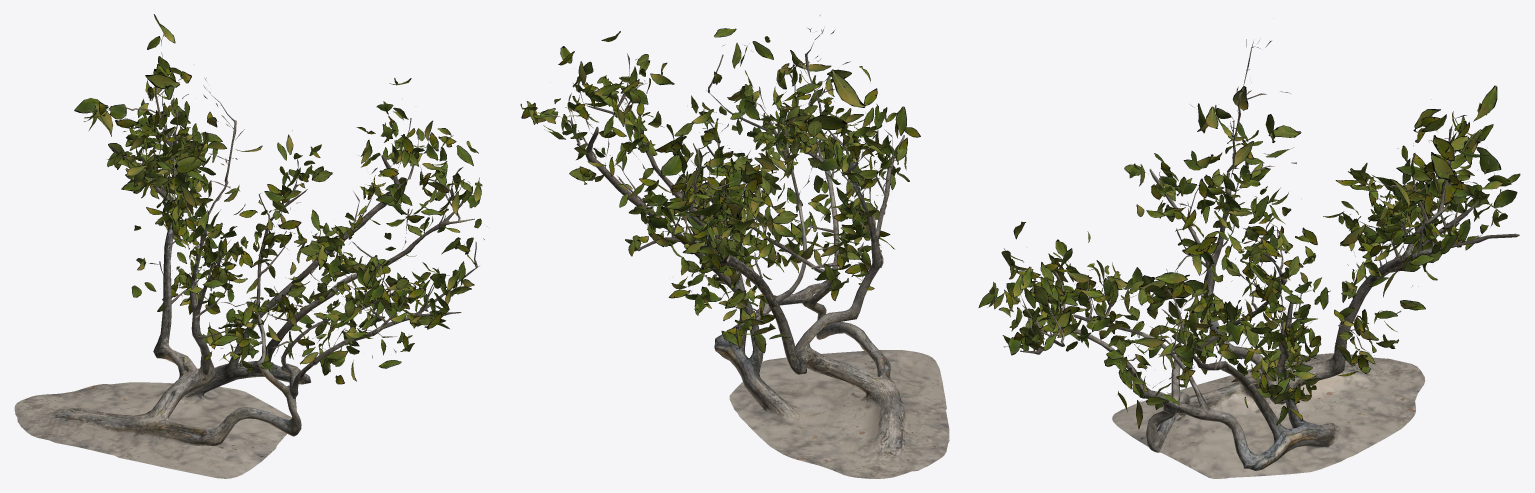
3 renders of one model, left to right at view 1: azimuth 30°, elevation 25°; view 2: azimuth 150°, elevation 25°; view 3: azimuth 270°, elevation 25°, orthographic. The views are drawn at different scales.
Parts seen in each view (by area): view 1: island_tree_03_LOD0; view 2: island_tree_03_LOD0; view 3: island_tree_03_LOD0.
Part boxes in pixels (x1,y1,x2,y2): island_tree_03_LOD0: (14,14,487,478); island_tree_03_LOD0: (520,15,949,478); island_tree_03_LOD0: (978,39,1520,478).
Size of the model in its own units: 2.97 by 2.5 by 2.92.
Materials: 3 (3 with a texture image).
